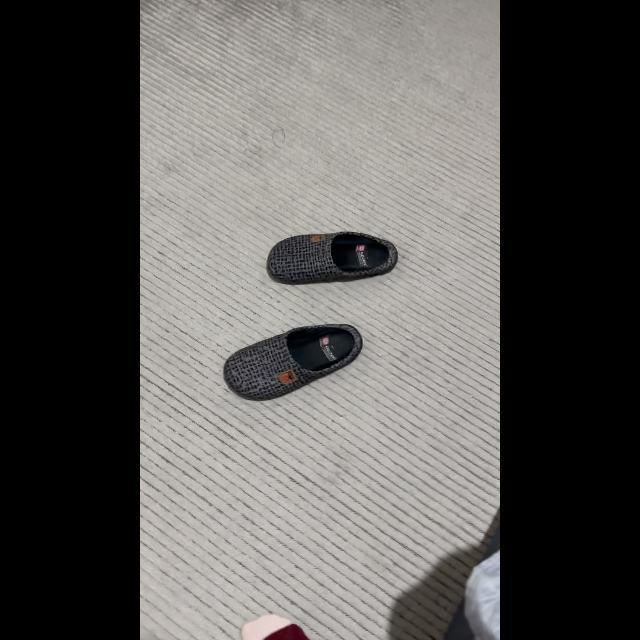slipper: (210, 322, 372, 406), (258, 224, 412, 288)
